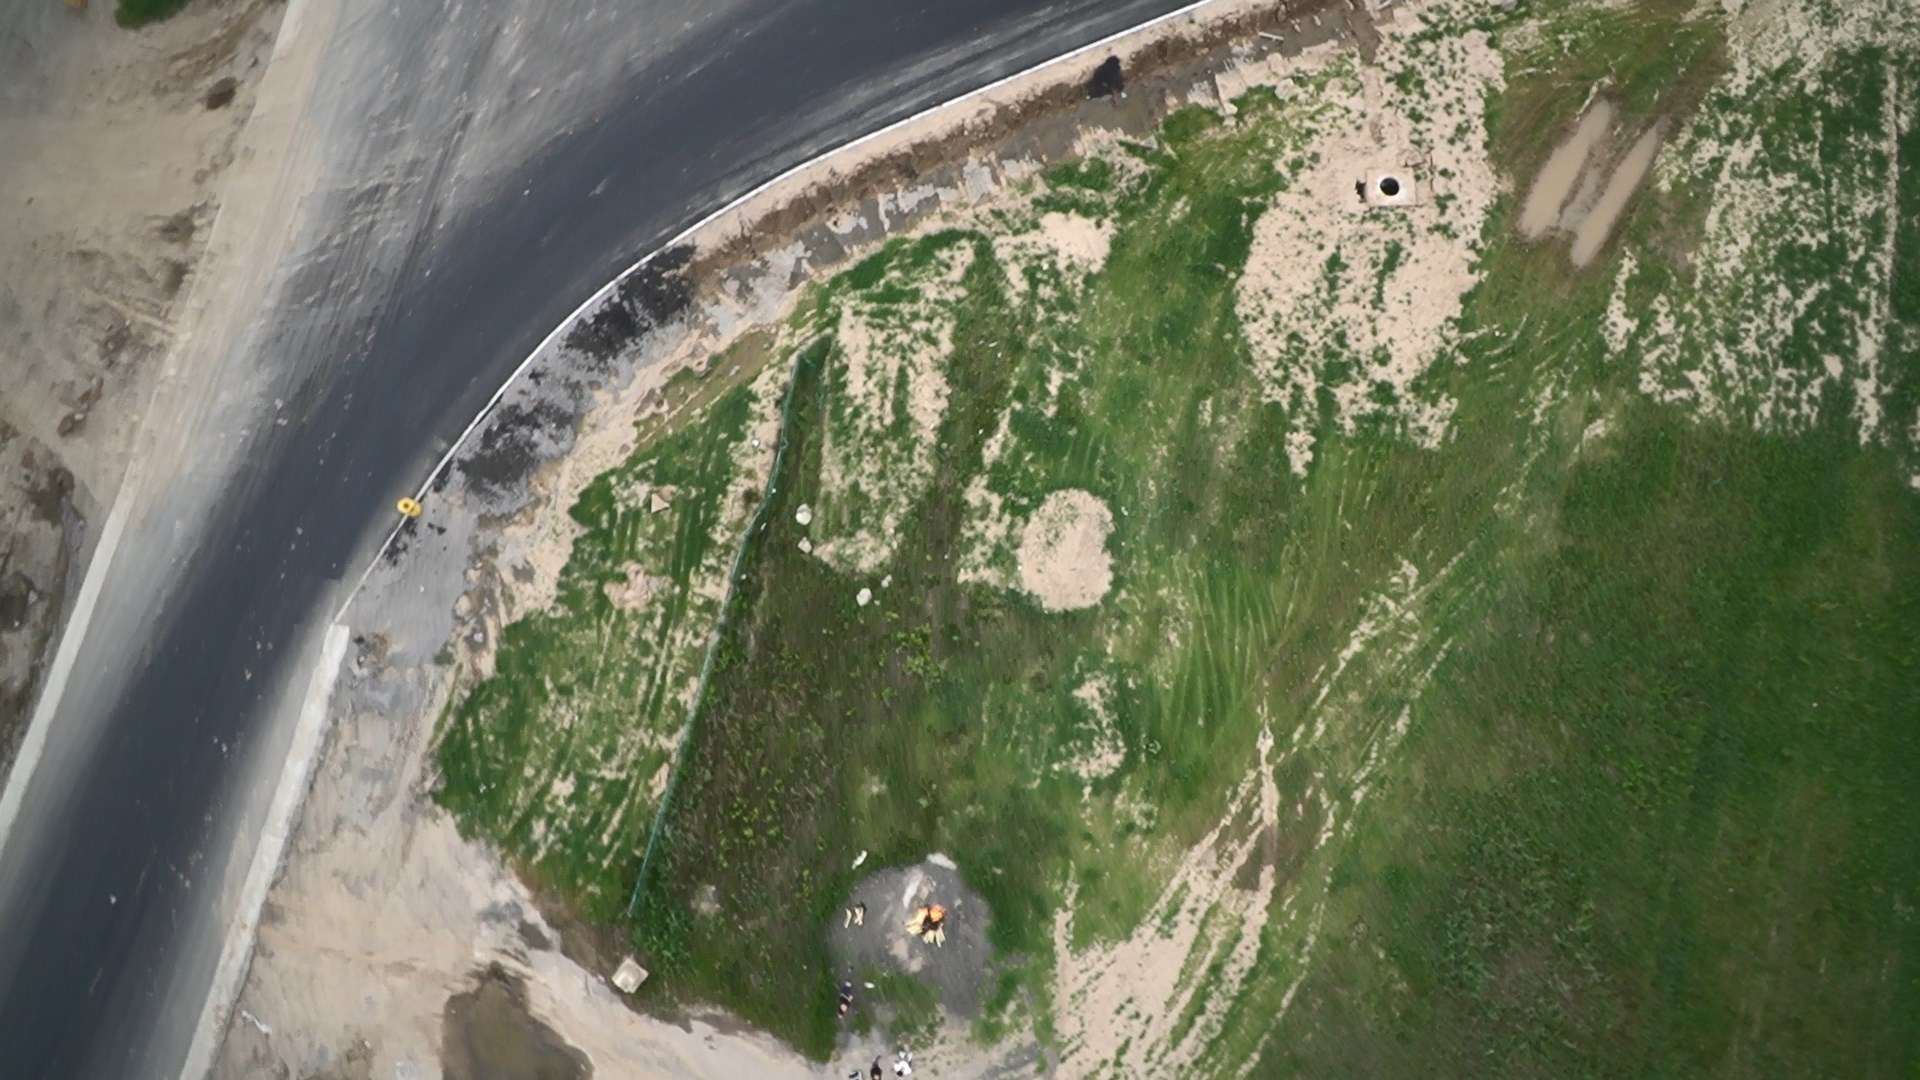fire: (893, 889, 949, 953)
